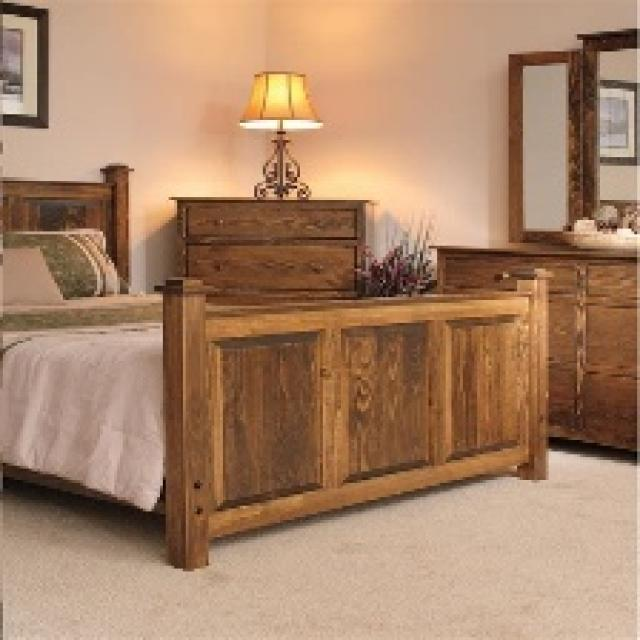Bed: (0, 160, 551, 568)
